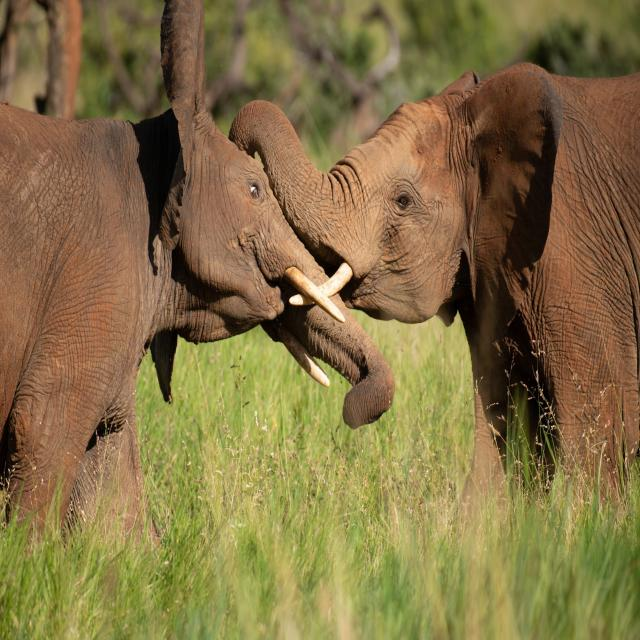Elephant: (0, 0, 395, 564), (228, 61, 640, 536)
